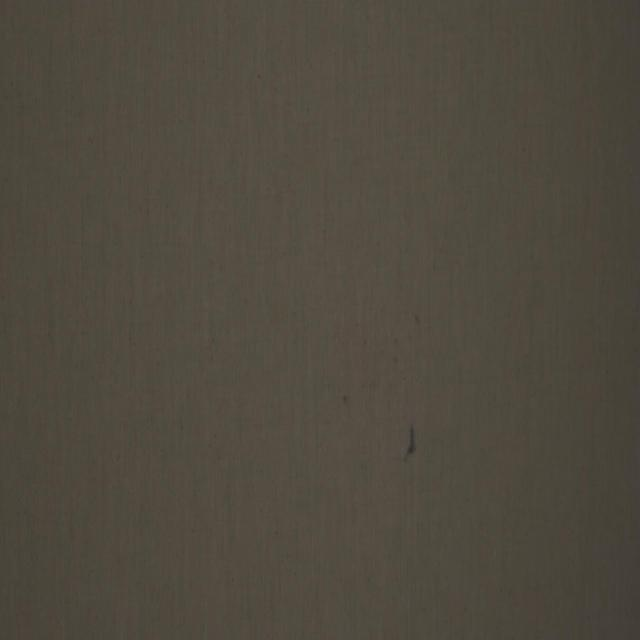dirty: (403, 423, 418, 463)
